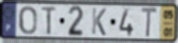2: (67, 4, 85, 38)
4: (118, 7, 135, 38)
K: (91, 7, 108, 37)
O: (18, 5, 38, 36)
T: (140, 6, 159, 40), (40, 6, 57, 37)
